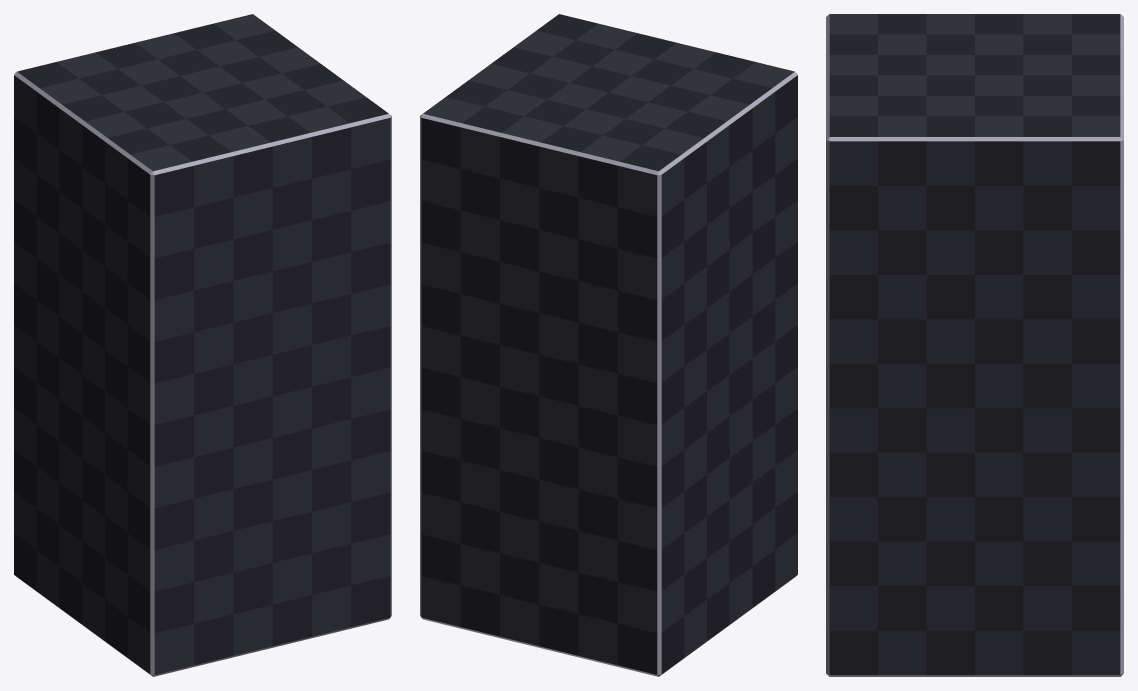
File: PMP-M-Ground-Main-2x2x4-V1.fbx
3 views of the same model, side by side, from view 1: azimuth 30°, elevation 25°; view 2: azimuth 150°, elevation 25°; view 3: azimuth 270°, elevation 25° (orthographic). The views are drawn at different scales.
Parts seen in each view (by area): view 1: MONO_Terrain-A-2x2x4; view 2: MONO_Terrain-A-2x2x4; view 3: MONO_Terrain-A-2x2x4.
Part boxes in pixels (x1,y1,x2,y2): MONO_Terrain-A-2x2x4: (14, 14, 391, 676); MONO_Terrain-A-2x2x4: (420, 14, 797, 676); MONO_Terrain-A-2x2x4: (826, 14, 1123, 676).
Size of the model in its own units: 200 by 400 by 200.
